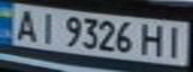2: (97, 17, 118, 53)
3: (78, 16, 100, 51)
6: (115, 19, 139, 55)
9: (57, 14, 84, 48)
A: (9, 7, 42, 43)
H: (139, 21, 169, 57)
I: (160, 24, 190, 58), (33, 10, 60, 45)
